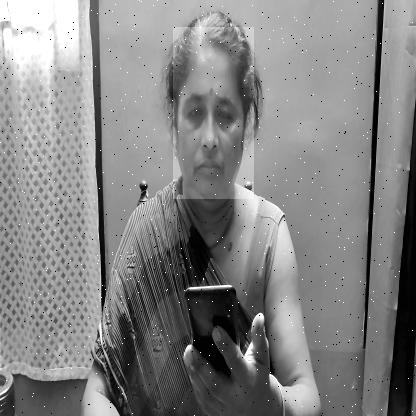Normal: (173, 27, 254, 199)
